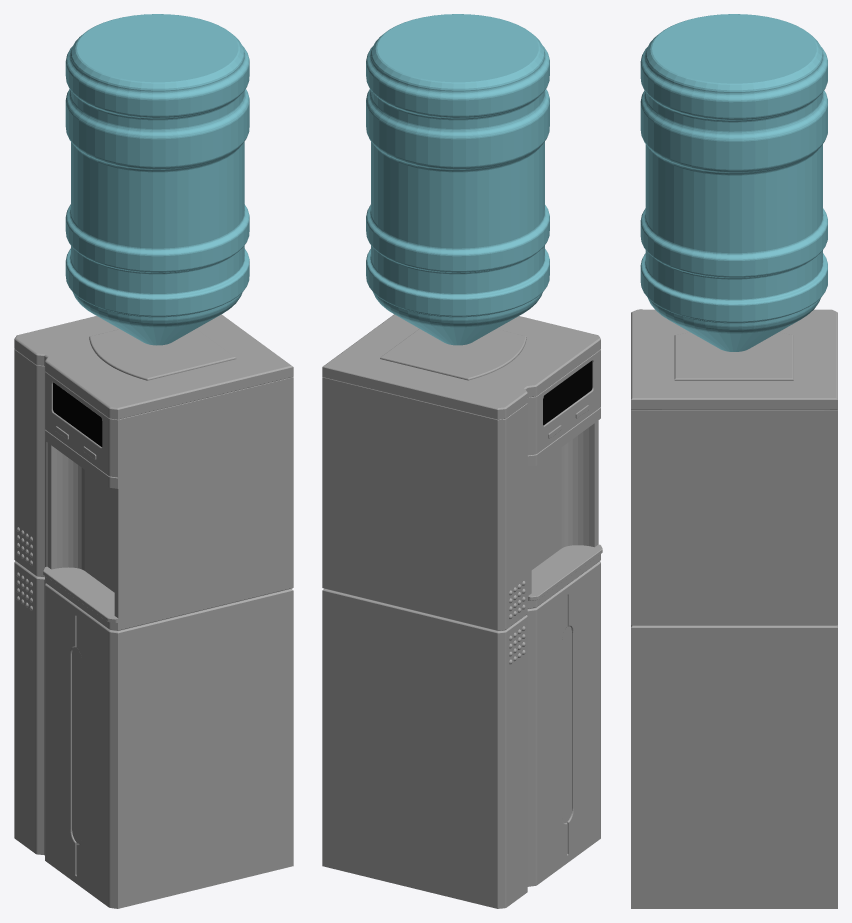
File: testing2cooler.fbx
3 renders of one model, left to right at view 1: azimuth 30°, elevation 25°; view 2: azimuth 150°, elevation 25°; view 3: azimuth 270°, elevation 25°, orthographic. The views are drawn at different scales.
Visible parts, largest first — view 1: Line114.031, Line218.031, butul.030, Rectangle0.067; view 2: Line114.031, Line218.031, butul.030, Rectangle0.067; view 3: Line114.031, Line218.031, butul.030, Rectangle0.067.
Part boxes in pixels (x1,y1,x2,y2): Line114.031: [14, 561, 293, 908]; Line218.031: [14, 314, 293, 630]; butul.030: [65, 14, 249, 345]; Rectangle0.067: [89, 329, 236, 380]; Line114.031: [322, 561, 600, 908]; Line218.031: [322, 314, 602, 630]; butul.030: [366, 14, 549, 345]; Rectangle0.067: [380, 329, 526, 380]; Line114.031: [631, 625, 837, 908]; Line218.031: [631, 309, 837, 625]; butul.030: [640, 14, 827, 351]; Rectangle0.067: [674, 332, 793, 380].
Size of the model in its own units: 63.64 by 267 by 61.11.
